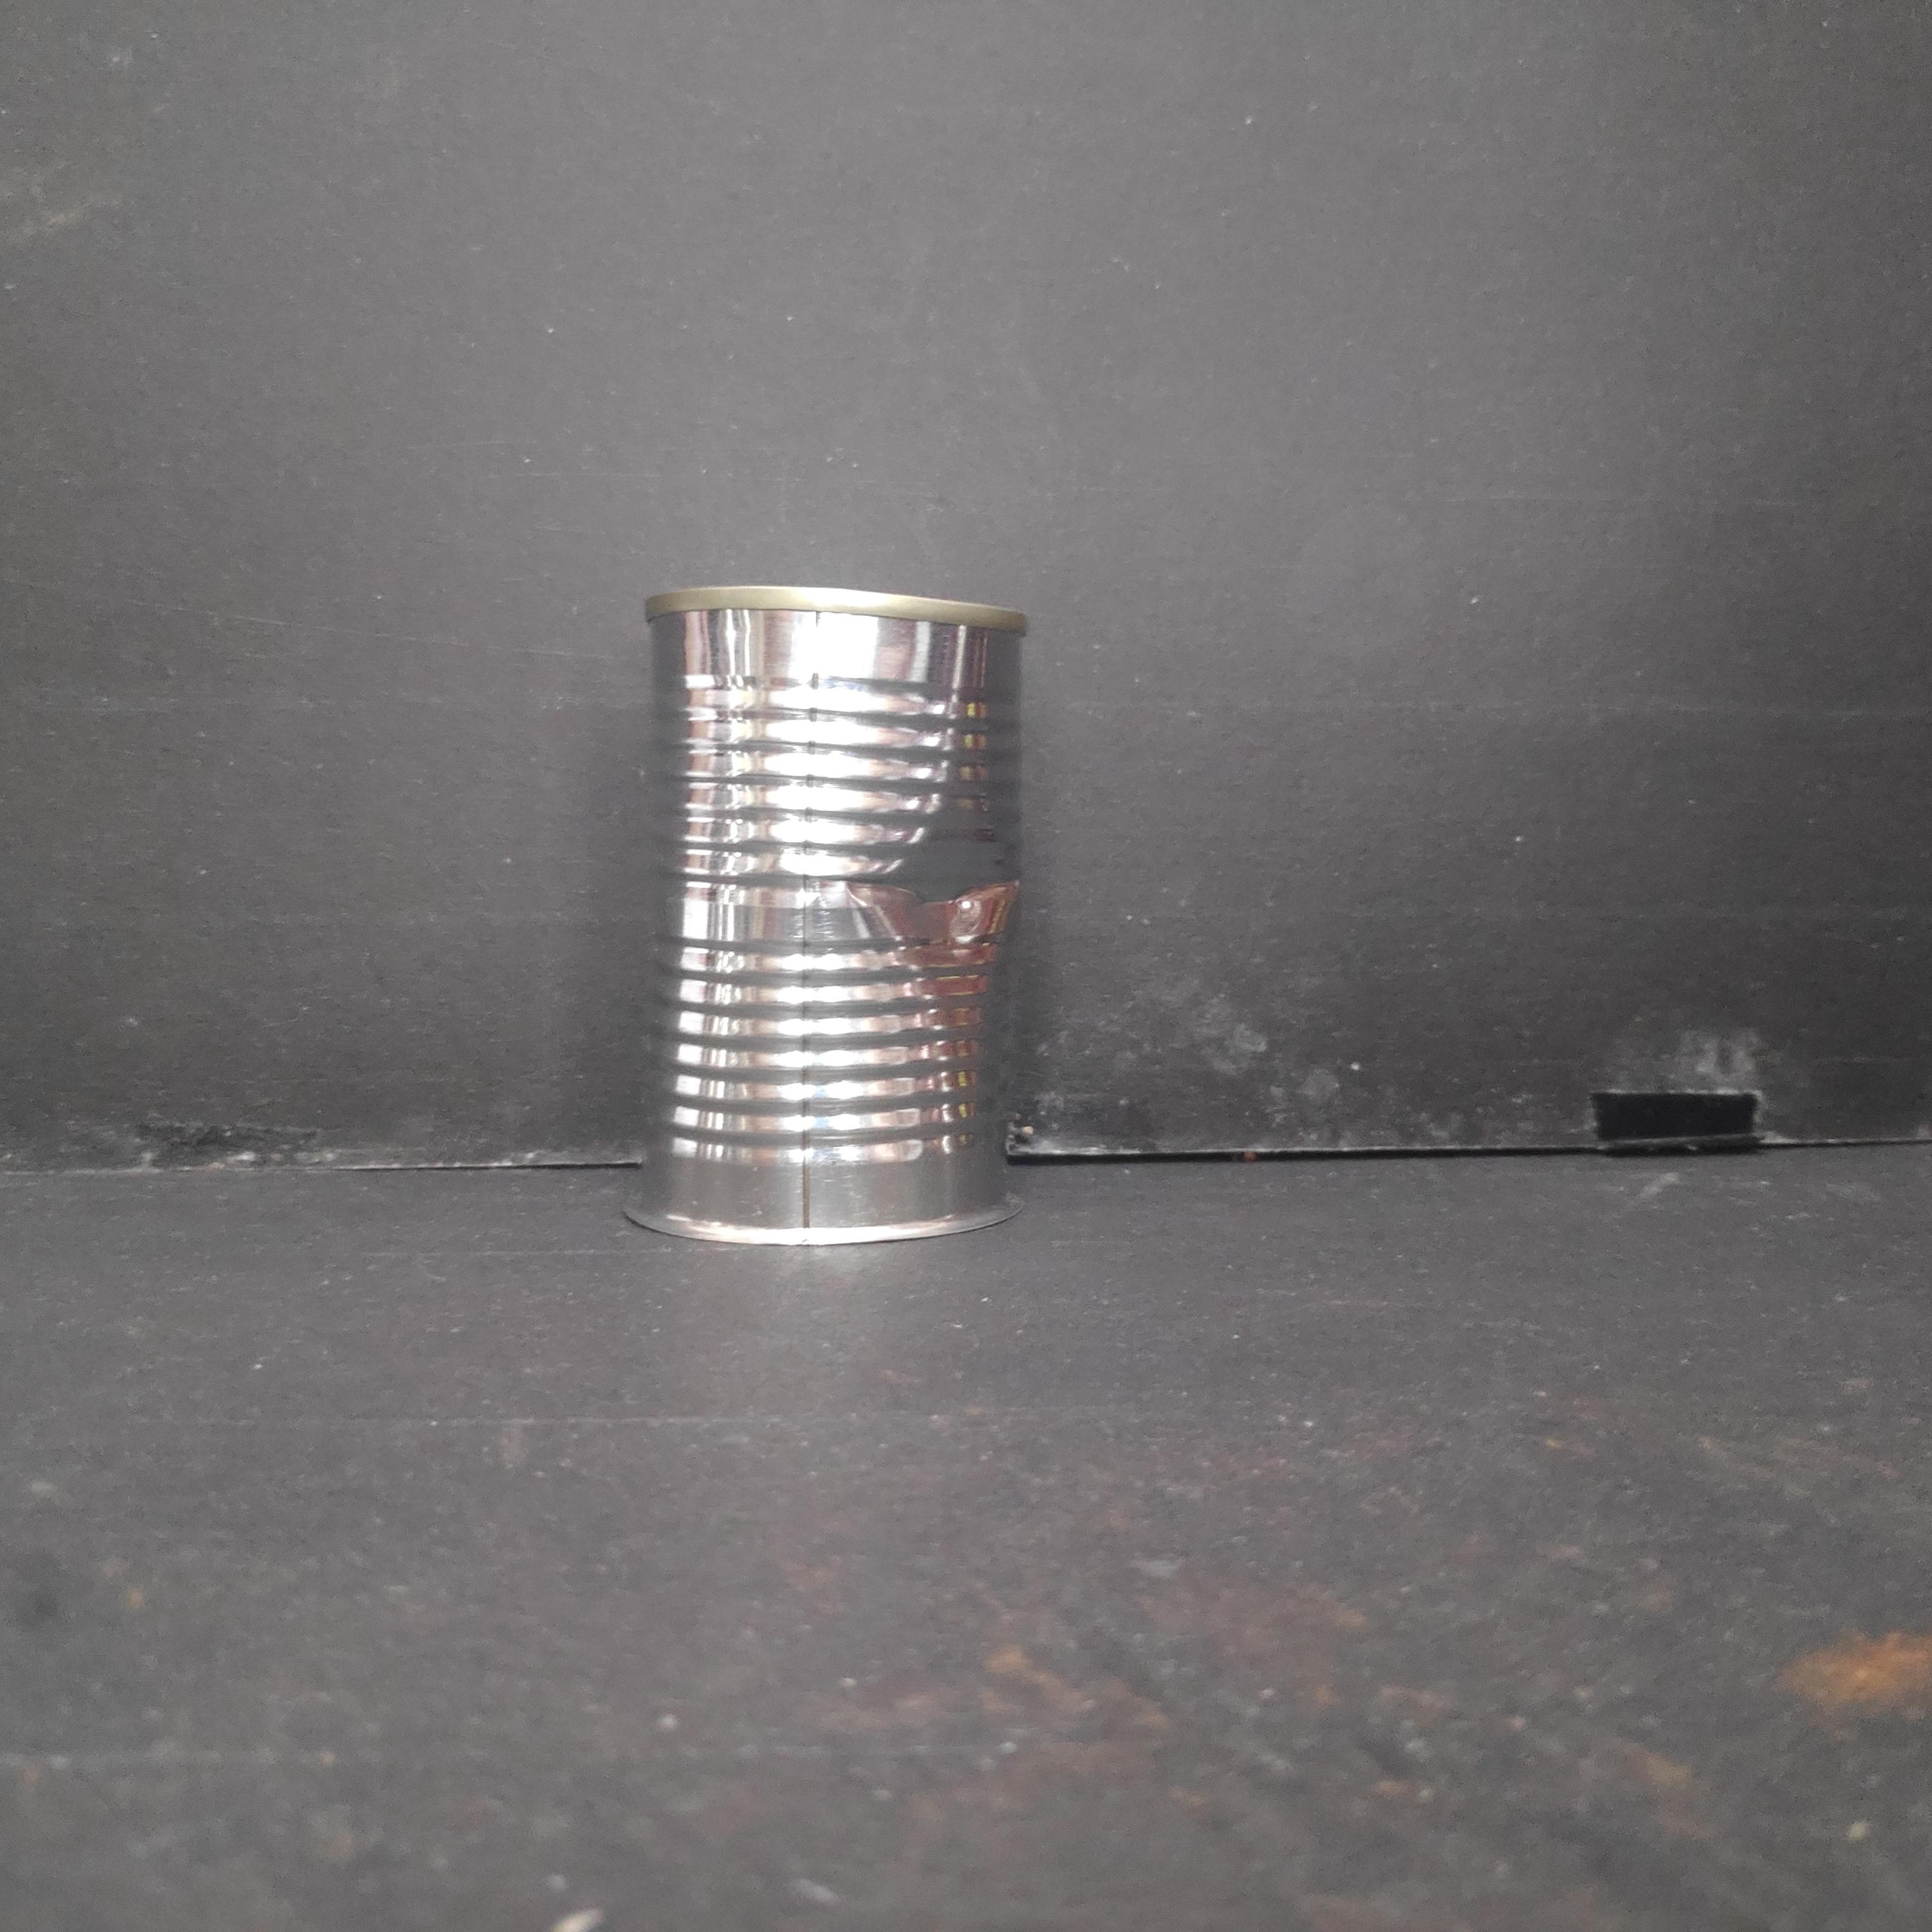Minor Defect: (630, 566, 1037, 1260)
